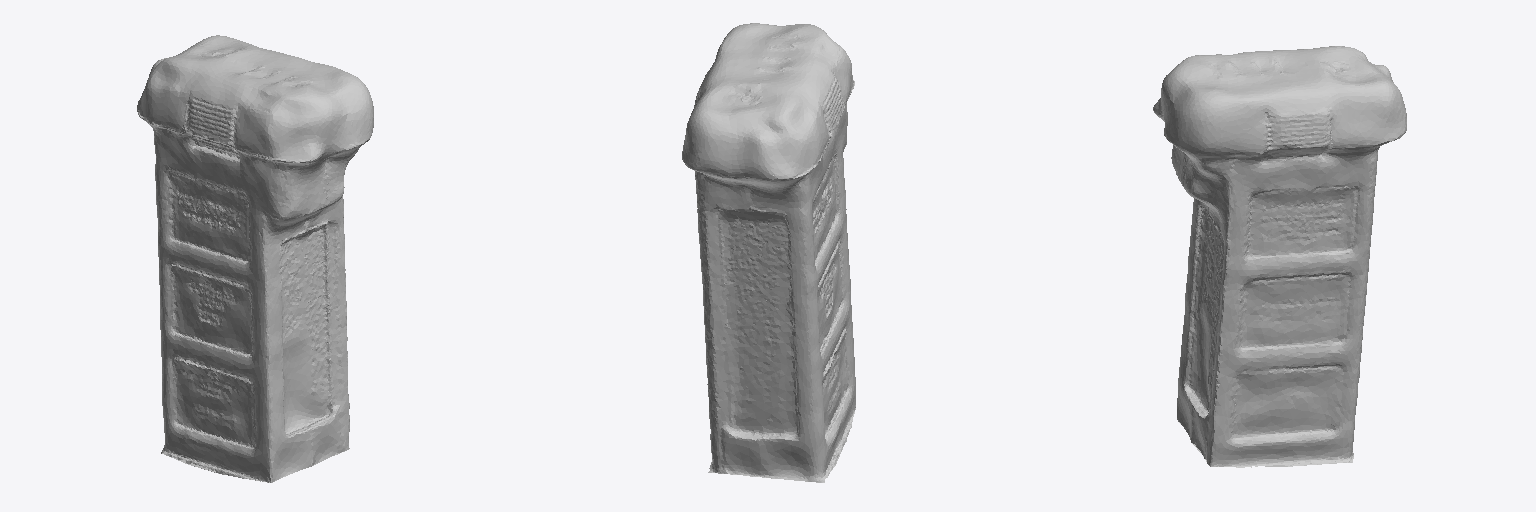
The model's file is retextured_diamond.obj.
3 renders of one model, left to right at view 1: azimuth 30°, elevation 25°; view 2: azimuth 150°, elevation 25°; view 3: azimuth 270°, elevation 25°, orthographic.
Visible parts, largest first — view 1: Phantom; view 2: Phantom; view 3: Phantom.
Part boxes in pixels (bbox=[...]): Phantom: bbox=[137, 35, 373, 482]; Phantom: bbox=[682, 23, 855, 482]; Phantom: bbox=[1153, 46, 1406, 467].
Bounding box in the file's own units: 0.0576 × 0.1371 × 0.0808.